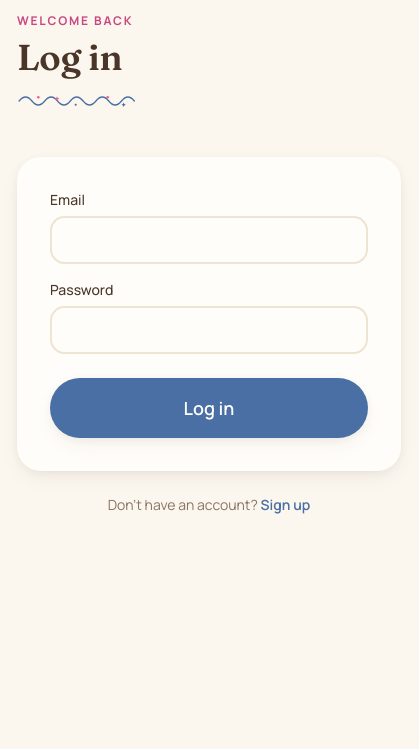
Login page › shows an inline error for a mismatched confirm-password without submitting
Click the button "Sign up": {"x": 286, "y": 505} [261,495,310,515]
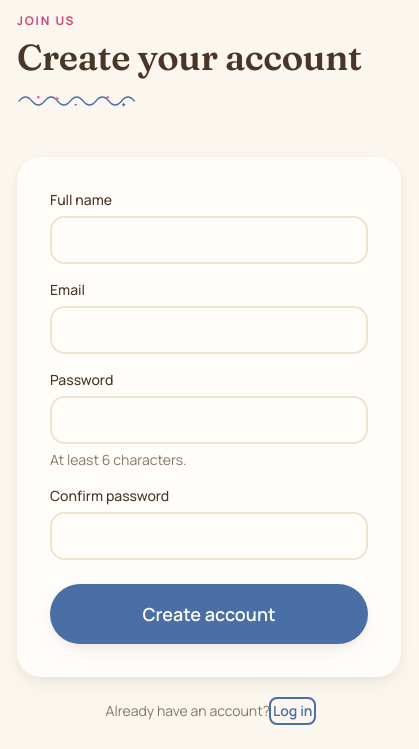
In the field labelled "Full name": {"x": 209, "y": 240} [50,216,368,264], type "Jude Tambago"
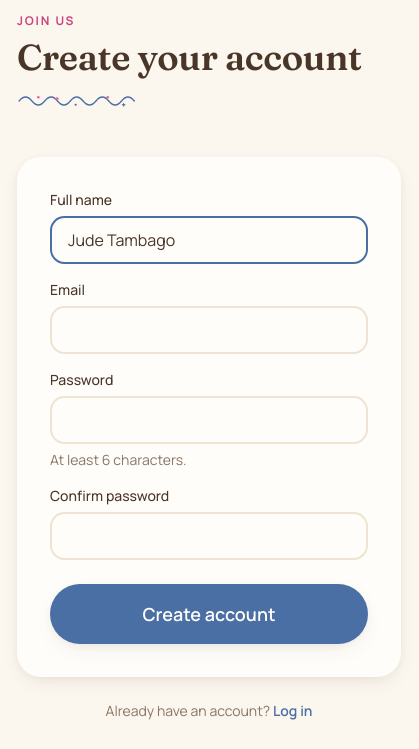
In the field labelled "Email": {"x": 209, "y": 330} [50,306,368,354], type "jude@example.com"
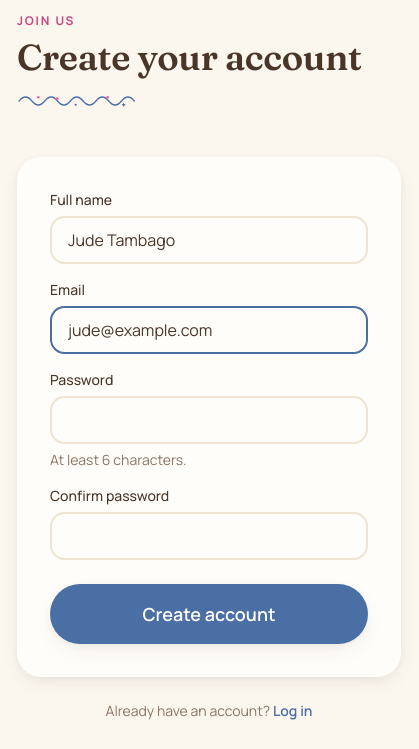
In the password field labelled "Password": {"x": 209, "y": 420} [50,396,368,444], type "secret123"
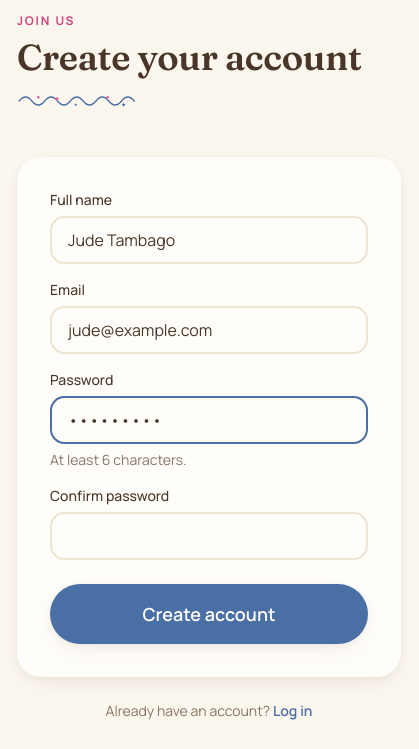
In the password field labelled "Confirm password": {"x": 209, "y": 536} [50,512,368,560], type "different1"
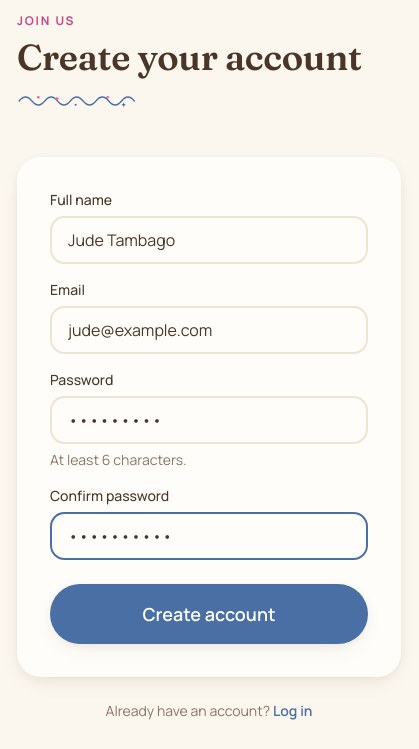
Click the button "Create account": {"x": 209, "y": 614} [50,584,368,644]
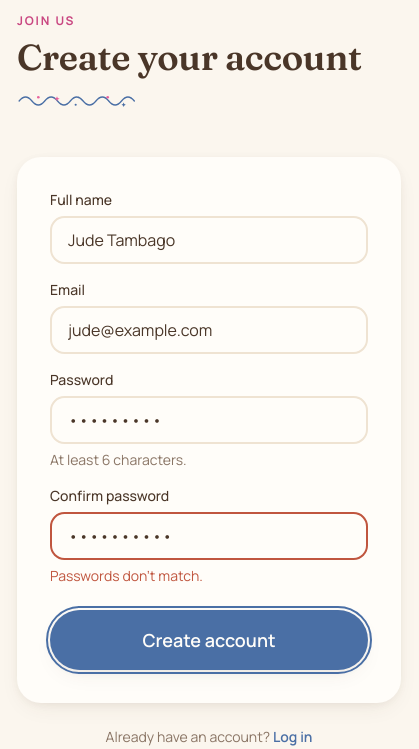
Result: the heading "Create your account" is shown at [17,37,362,77]
Result: the text "Passwords don't match." is shown at [50,566,203,585]
